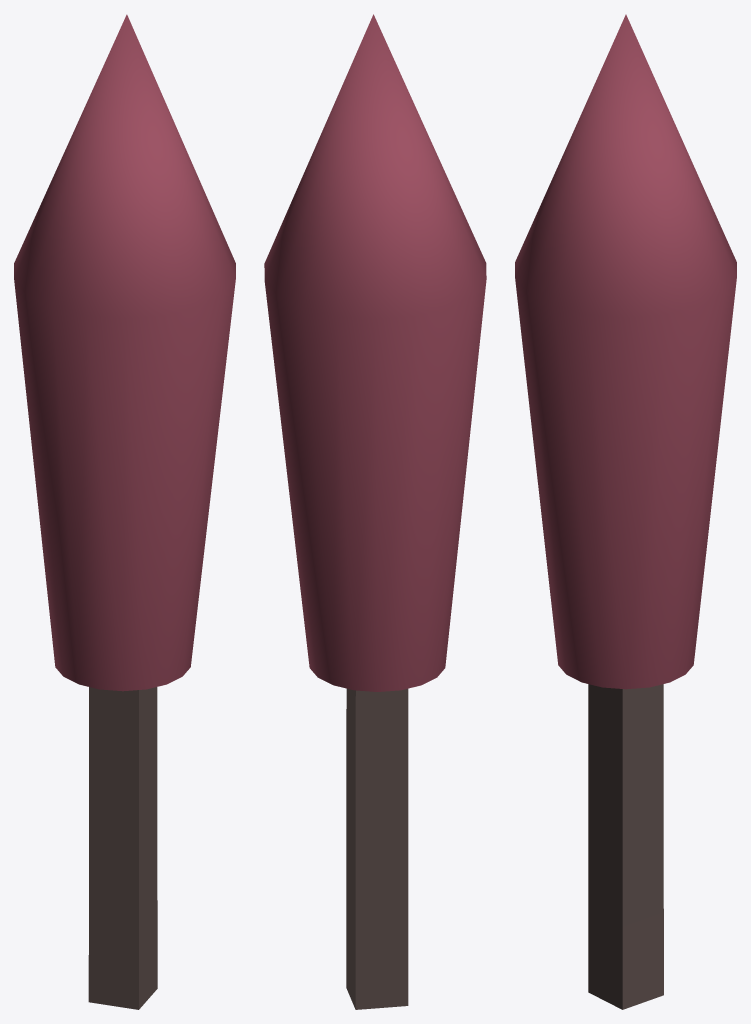
Rendered from Prop_umbrella_off.FBX.
The picture shows the model from 3 angles, left to right: view 1: azimuth 30°, elevation 25°; view 2: azimuth 150°, elevation 25°; view 3: azimuth 270°, elevation 25°; orthographic projection.
Visible parts, largest first — view 1: Prop_umbrella_off; view 2: Prop_umbrella_off; view 3: Prop_umbrella_off.
Part boxes in pixels (bbox=[...]): Prop_umbrella_off: bbox=[14, 14, 235, 1009]; Prop_umbrella_off: bbox=[264, 14, 486, 1009]; Prop_umbrella_off: bbox=[515, 14, 736, 1009].
Size of the model in its own units: 16.83 by 80.86 by 16.55.
